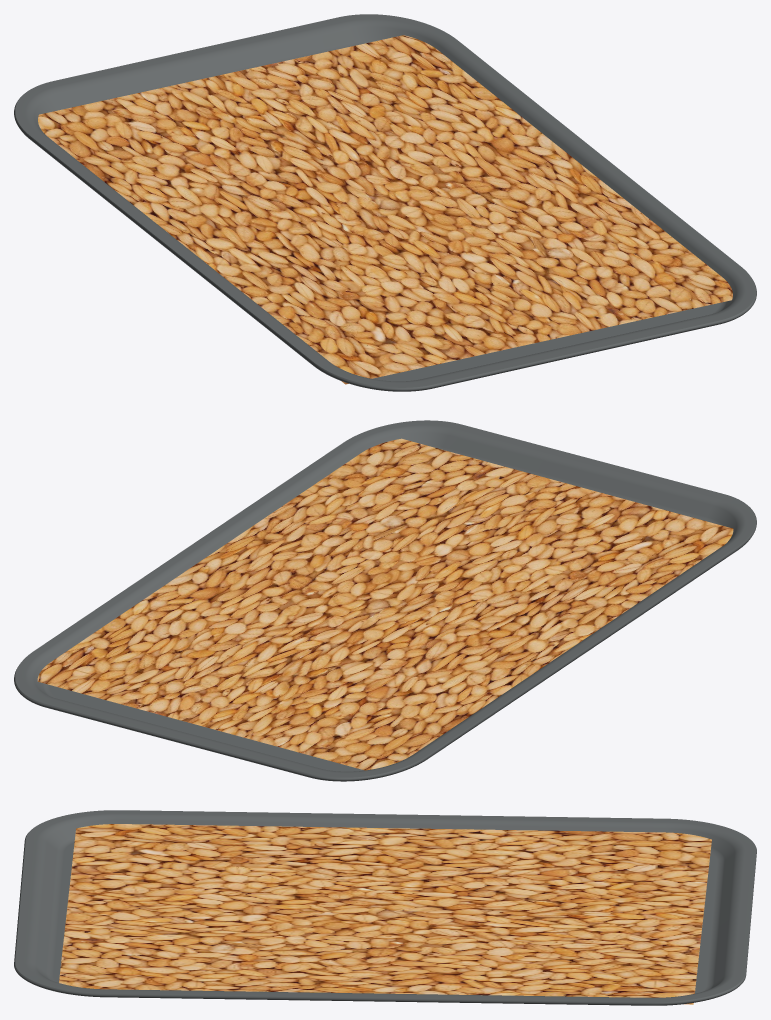
Rendered from Nampan Wijen.fbx.
The picture shows the model from 3 angles, top to bottom: view 1: azimuth 30°, elevation 25°; view 2: azimuth 150°, elevation 25°; view 3: azimuth 270°, elevation 25°; orthographic projection. The views are drawn at different scales.
Visible parts, largest first — view 1: Plane, Cube; view 2: Plane, Cube; view 3: Plane, Cube.
Part boxes in pixels (bbox=[...]): Plane: bbox=[38, 35, 732, 384]; Cube: bbox=[14, 14, 756, 391]; Plane: bbox=[37, 438, 733, 770]; Cube: bbox=[14, 420, 756, 781]; Plane: bbox=[59, 824, 711, 1004]; Cube: bbox=[14, 810, 756, 1005].
Bounding box in the file's own units: 140 × 4.4 × 228.
